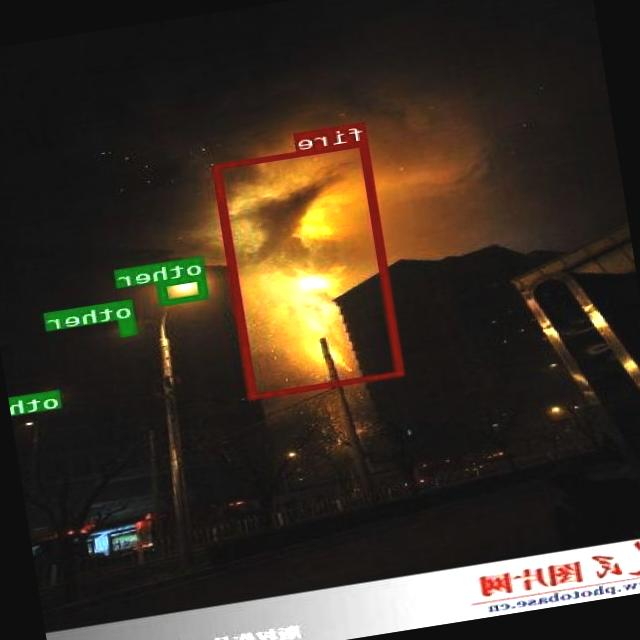fire: (213, 139, 406, 399)
